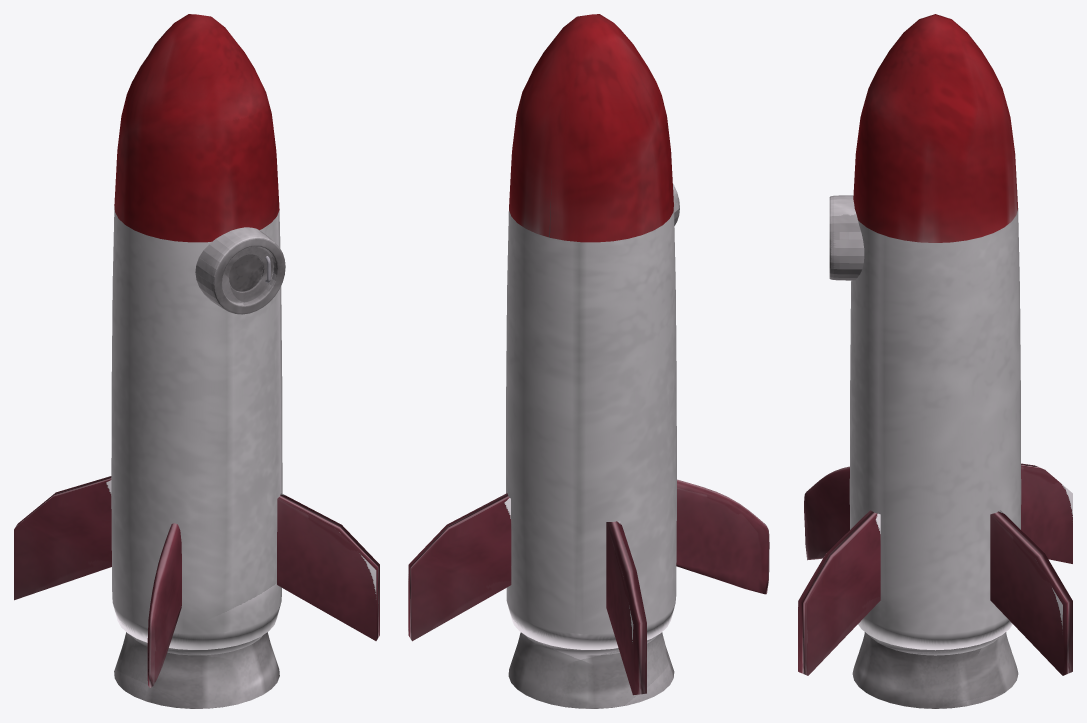
The model's file is red_rocket.glb.
The picture shows the model from 3 angles, left to right: view 1: azimuth 30°, elevation 25°; view 2: azimuth 150°, elevation 25°; view 3: azimuth 270°, elevation 25°; orthographic projection.
Parts seen in each view (by area): view 1: body_10, Cube.003_7, Cube.001_5, window_9, Cube.002_6; view 2: body_10, Cube_4, Cube.002_6, Cube.001_5; view 3: body_10, Cube_4, Cube.003_7, Cube.001_5, Cube.002_6, window_9.
Part boxes in pixels (<box>): body_10: <box>111,14,282,708</box>; Cube.003_7: <box>277,493,379,640</box>; Cube.001_5: <box>14,476,111,600</box>; window_9: <box>195,227,285,314</box>; Cube.002_6: <box>147,523,181,687</box>; body_10: <box>506,14,676,708</box>; Cube_4: <box>408,493,511,641</box>; Cube.002_6: <box>676,479,769,594</box>; Cube.001_5: <box>606,520,646,695</box>; body_10: <box>849,14,1021,708</box>; Cube_4: <box>990,510,1072,675</box>; Cube.003_7: <box>798,510,880,675</box>; Cube.001_5: <box>1021,463,1072,563</box>; Cube.002_6: <box>804,466,849,560</box>; window_9: <box>829,195,864,280</box>.
Size of the model in its own units: 5.79 by 15.31 by 5.79.
1 material, 1 textured.
